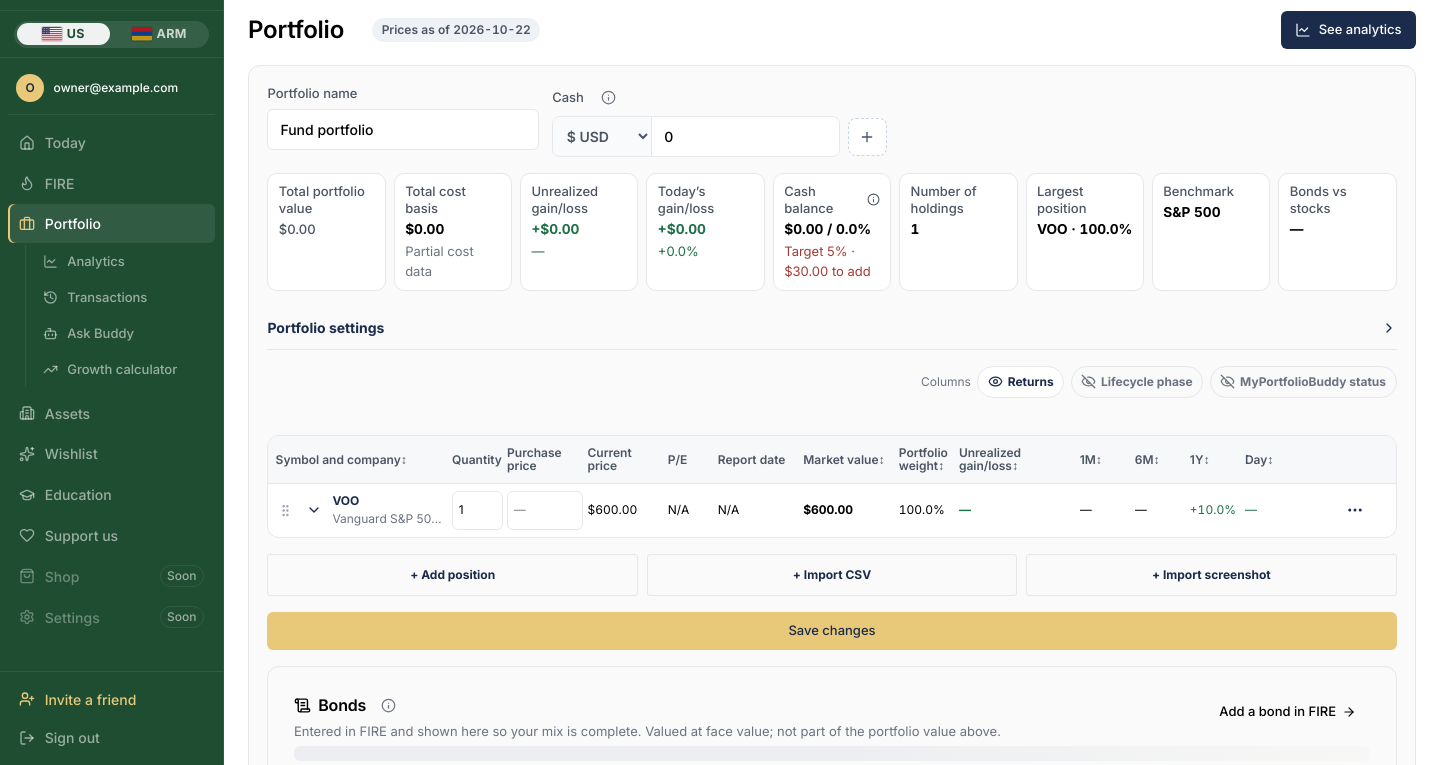
it: Dashboard navigation › shows detected ETFs but excludes them from allocation limits
What coordinates should you click on to do the following:
click the button "Analytics"
I would click on:
 (124, 262)
Its box is [33,245,215,279].
(page scrolled)
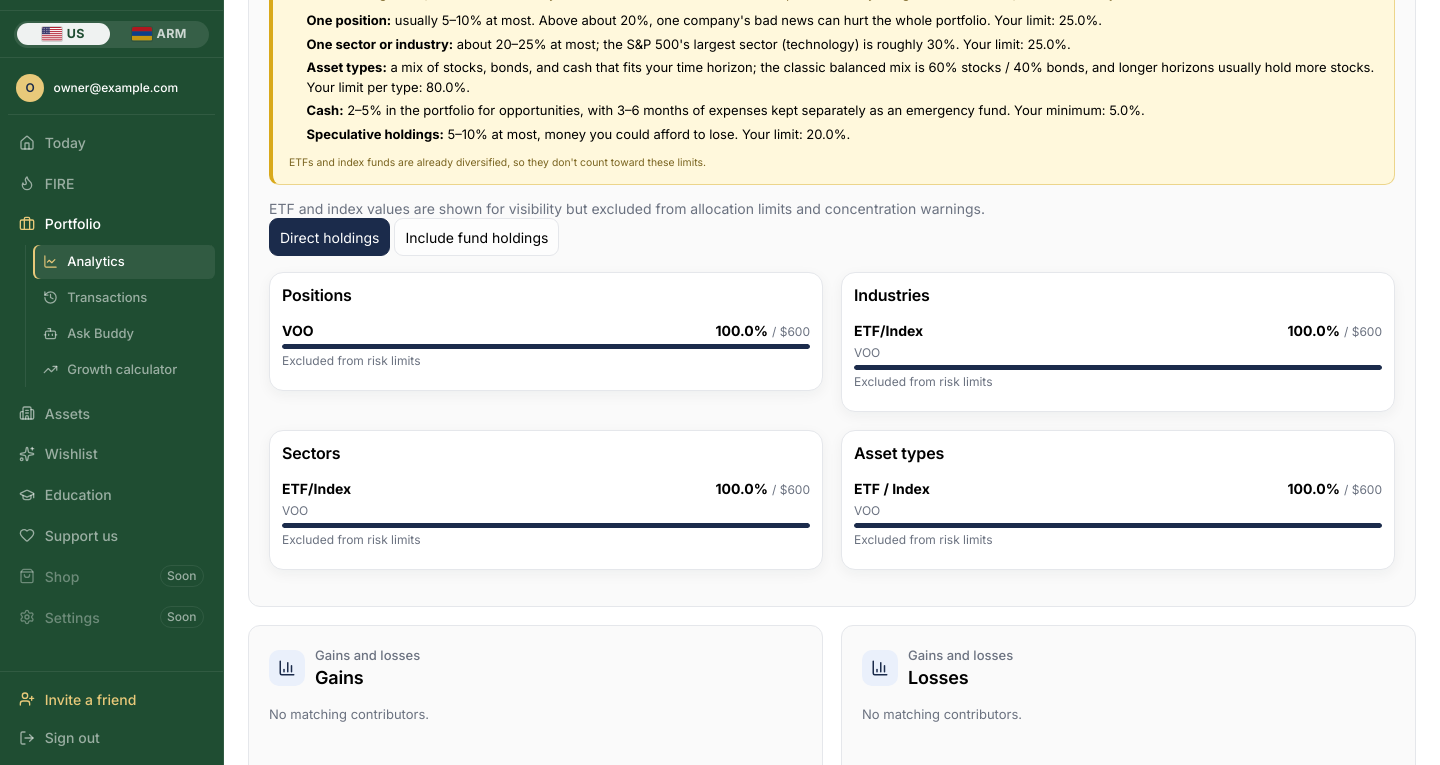
Check: the heading "Asset types" is shown, box [854,443,944,463]
Check: the text "VOO" below "Positions" is shown, box [282,322,314,339]
Check: the text "ETF / Index" is shown, box [854,480,930,497]
